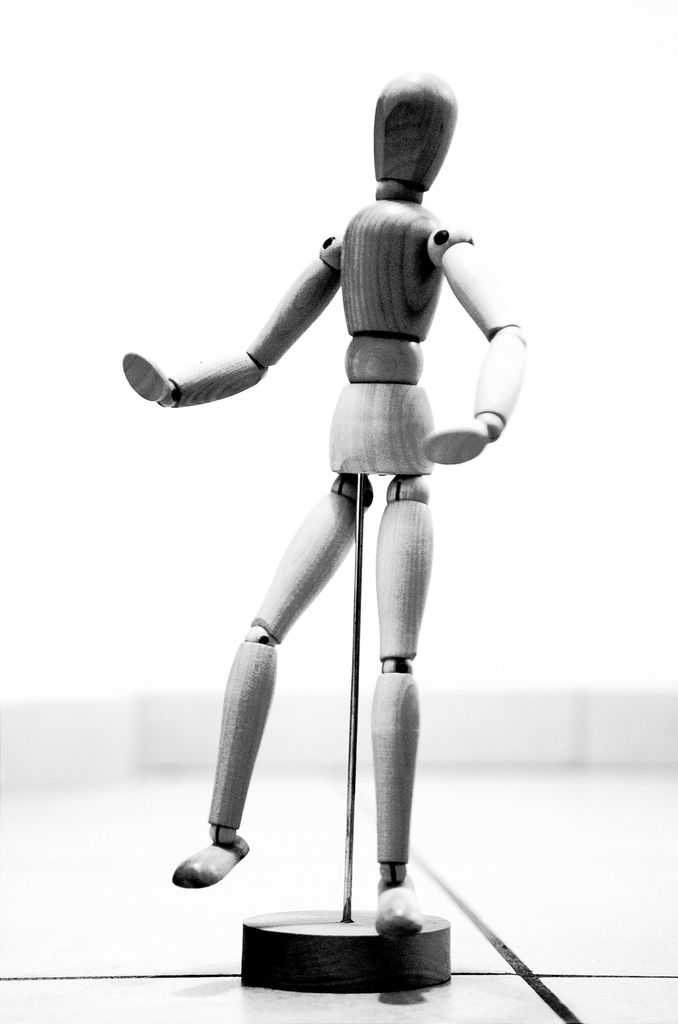Human_hand: (120, 351, 177, 408), (419, 419, 488, 464)
